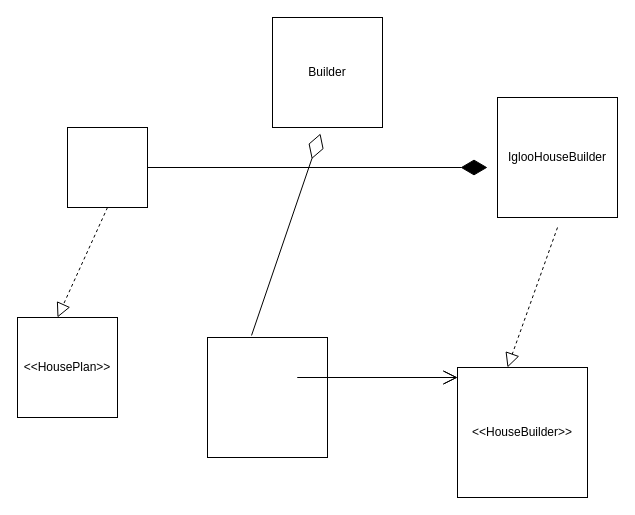
Image size: 635x515. Some labels were removed from this diagram. Here are the shapes that lost their labels. From the top down, the box of each, then its label:
(66, 126, 148, 208): House
(206, 336, 328, 458): CilvilEngineer
